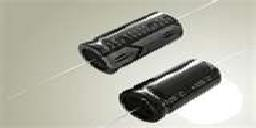Electrolytic-Capacitor: (70, 4, 192, 72), (117, 57, 227, 127)
